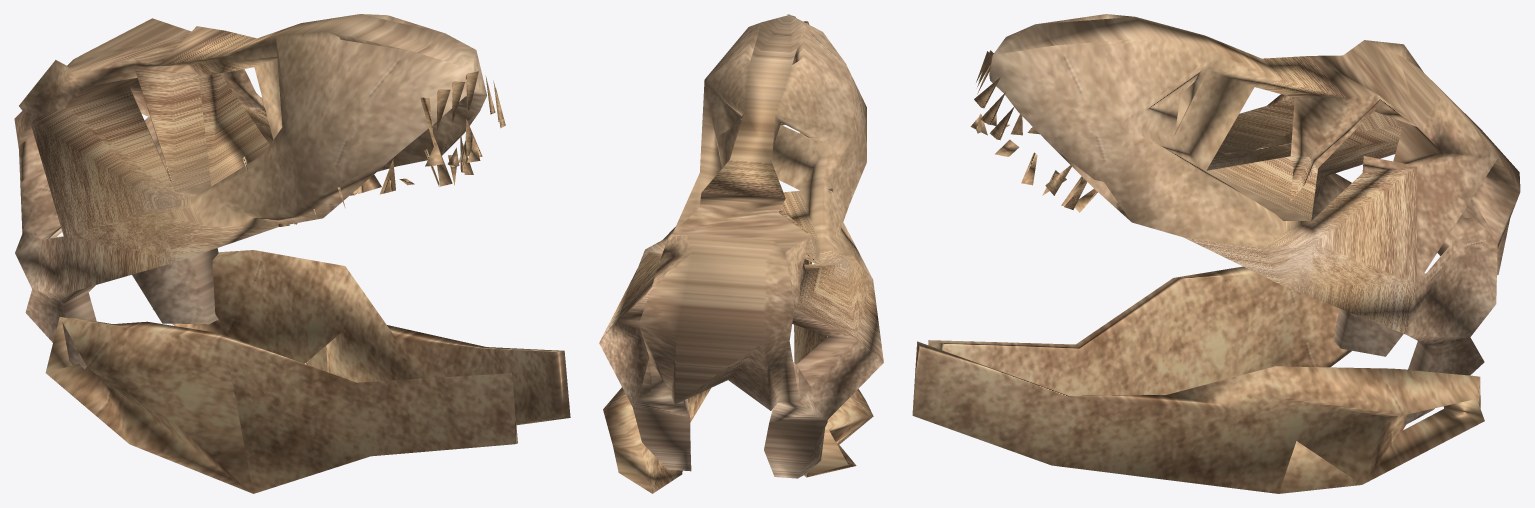
File: dino skull.fbx
3 renders of one model, left to right at view 1: azimuth 30°, elevation 25°; view 2: azimuth 150°, elevation 25°; view 3: azimuth 270°, elevation 25°, orthographic. The views are drawn at different scales.
Parts seen in each view (by area): view 1: polySurface9; view 2: polySurface9; view 3: polySurface9.
Boxes of the visible parts, x1=… form: polySurface9: x1=14, y1=14, x2=570, y2=493; polySurface9: x1=599, y1=14, x2=883, y2=493; polySurface9: x1=912, y1=14, x2=1520, y2=493.
Bounding box in the file's own units: 1.89 × 2.68 × 3.13.
